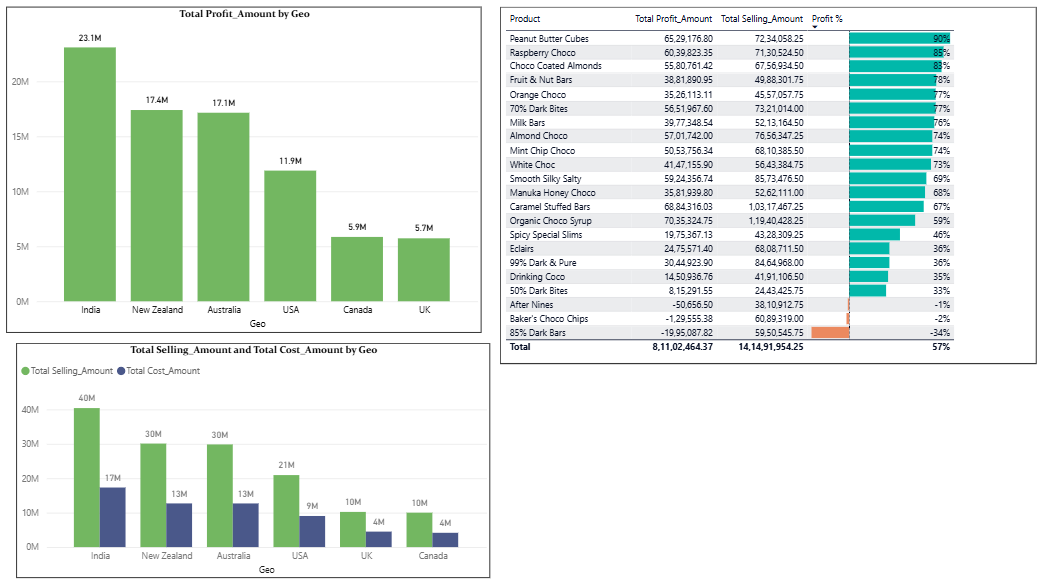

The dashboard page shown, as its layout file describes it:
{"tool":"powerbi","page":{"name":"Profit Calculation","canvas":[1280,720],"ordinal":1},"visuals":[{"type":"clusteredColumnChart","fields":{"Category":["locations.Geo"],"Y":["shipments.Total Profit_Amount"]},"box":[22.9,15.7,572.9,395.7],"z":0},{"type":"tableEx","fields":{"Values":["products.Product","shipments.Total Profit_Amount","shipments.Total Selling_Amount","shipments.Profit %"]},"box":[595,16.2,650,535],"z":1000},{"type":"clusteredColumnChart","fields":{"Y":["shipments.Total Selling_Amount","shipments.Total Cost_Amount"],"Category":["locations.Geo"]},"box":[11.4,412.9,584.3,307.1],"z":2000}]}

Visuals, with their boxes in screenshot pixels (x1, y1, x2, y2), scaled from the page's 1280x720 canvas onto the 1040x583 screenshot:
clusteredColumnChart - locations.Geo x shipments.Total Profit_Amount: rect(19, 13, 484, 333)
tableEx - products.Product x shipments.Total Profit_Amount: rect(483, 13, 1012, 446)
clusteredColumnChart - shipments.Total Selling_Amount x shipments.Total Cost_Amount: rect(9, 334, 484, 582)
